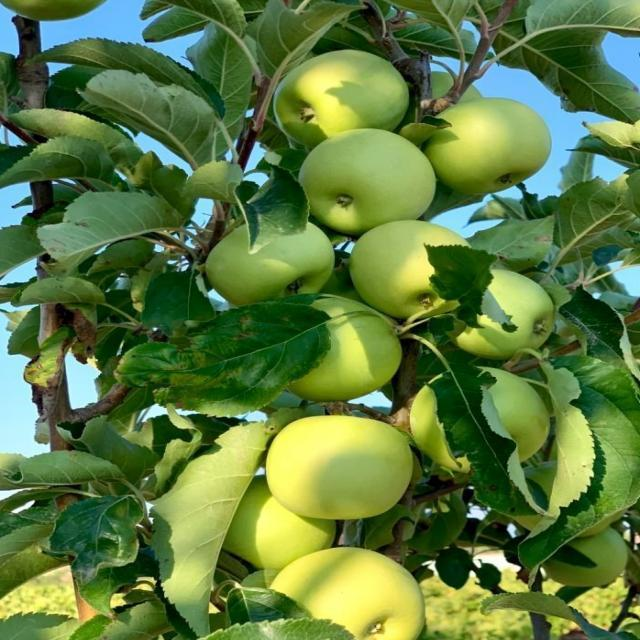Green Apple: (419, 365, 551, 471), (284, 551, 426, 640), (291, 413, 417, 513), (349, 215, 467, 319), (309, 127, 435, 223), (303, 294, 415, 394), (437, 95, 553, 184), (278, 44, 390, 136), (242, 470, 350, 565), (460, 269, 566, 365), (220, 219, 331, 290), (554, 525, 625, 585), (1, 1, 110, 20)
